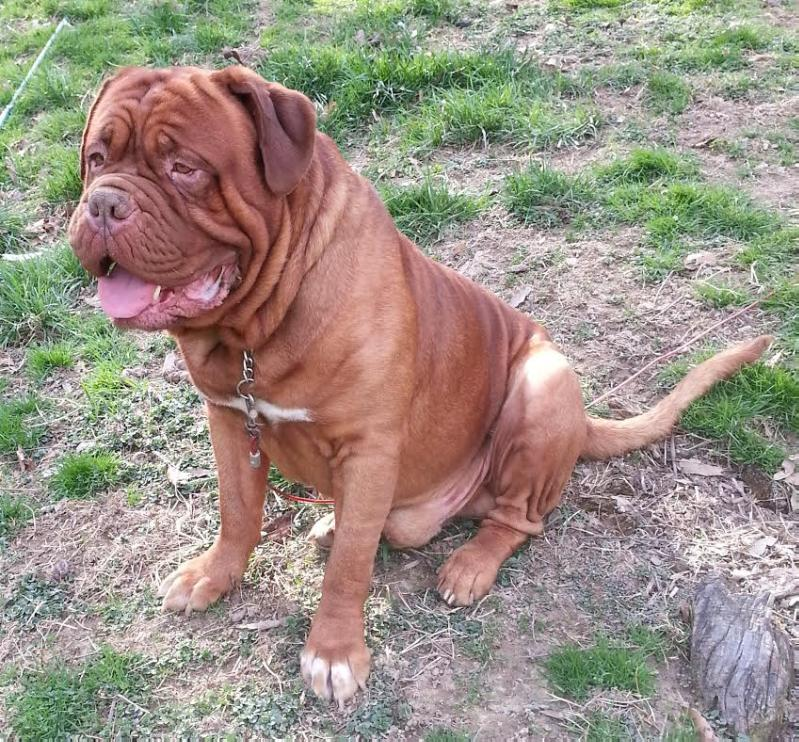dogue_de_bordeaux: (65, 63, 770, 712)
